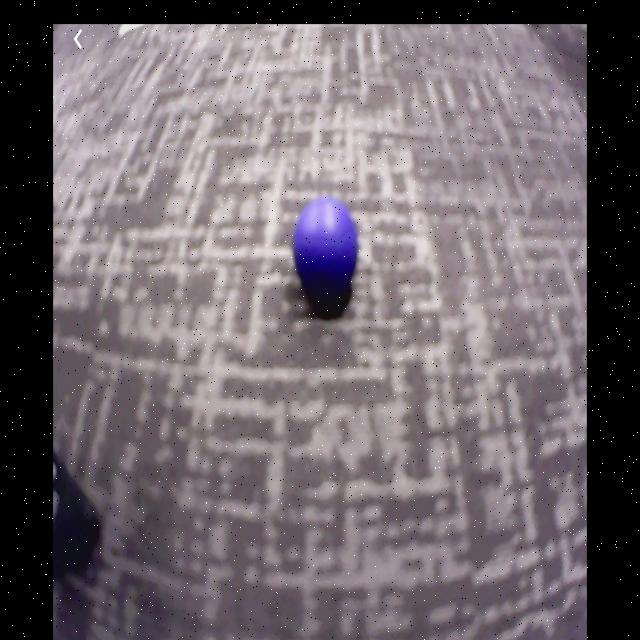ball: (296, 201, 358, 291)
